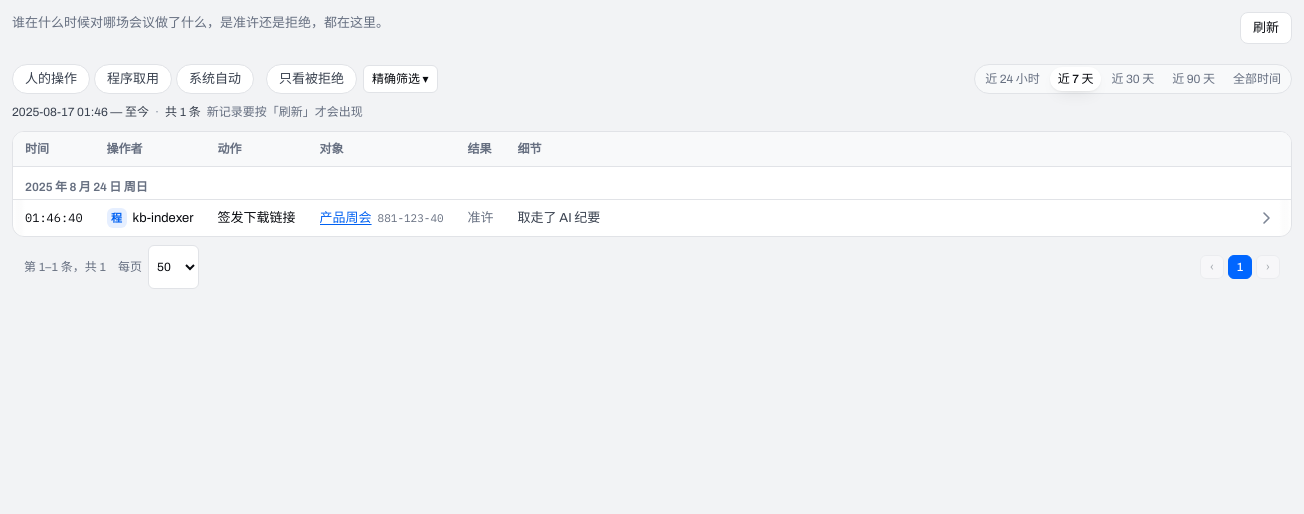
it: 审计条目 › 点行上任何空白处也能展开；点链接不展开
The image size is (1304, 514).
Click the text with test id "audit-detail-1": (559, 218) [518, 210, 600, 224]
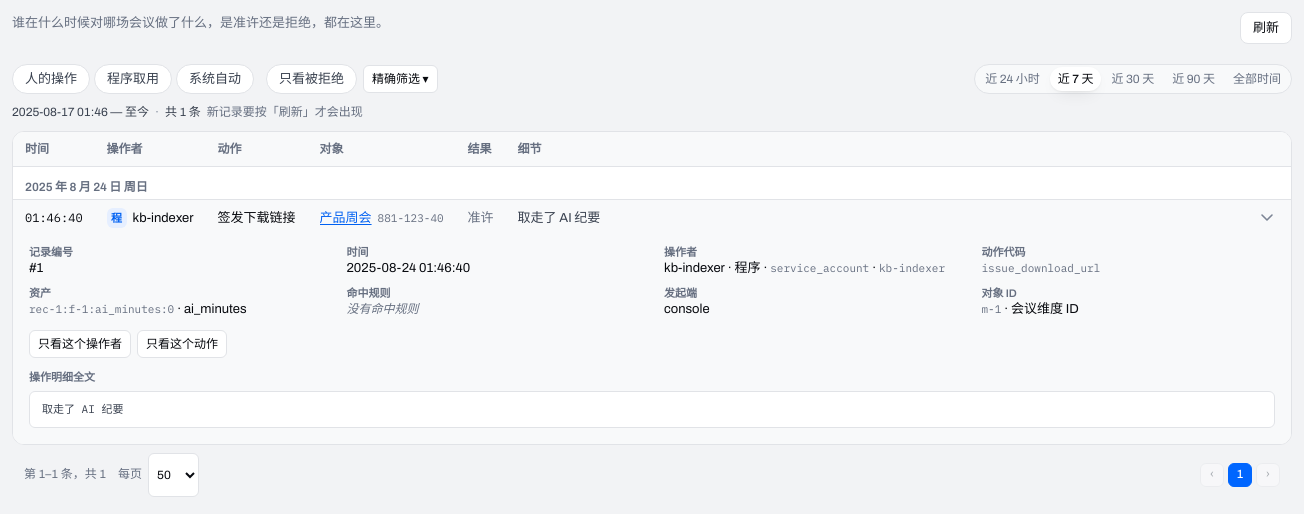
Expected: the element with test id "audit-expanded-1" is shown, [29, 245, 1275, 428]
Expected: the button named "完整记录" is expanded, [1255, 206, 1279, 230]
Click the text with test id "audit-detail-1": (559, 218) [518, 210, 600, 224]
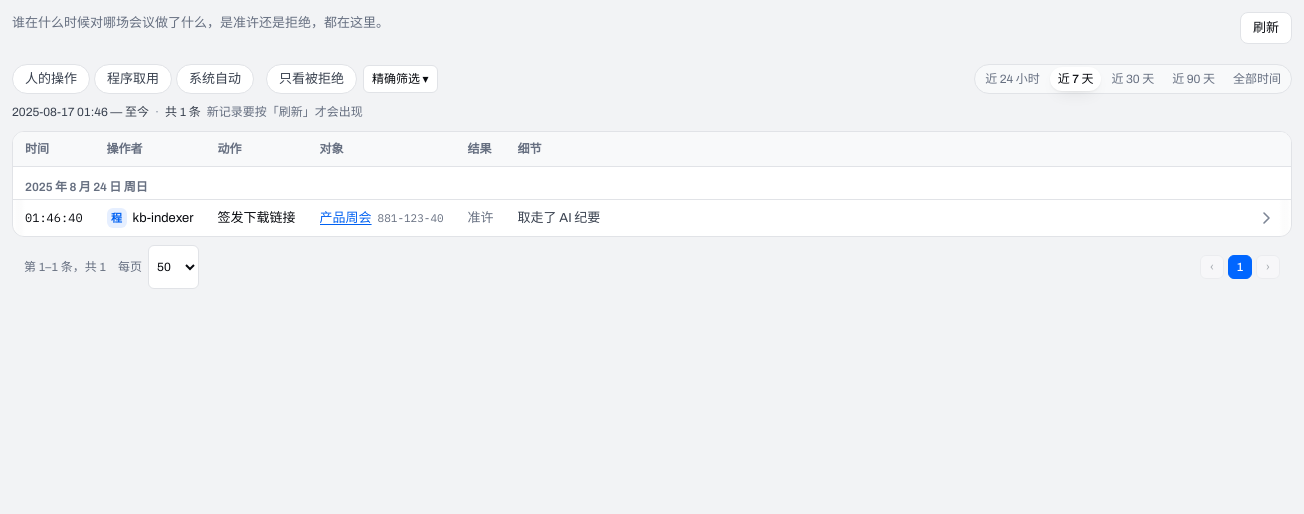
Expected: the element with test id "audit-expanded-1" is gone
